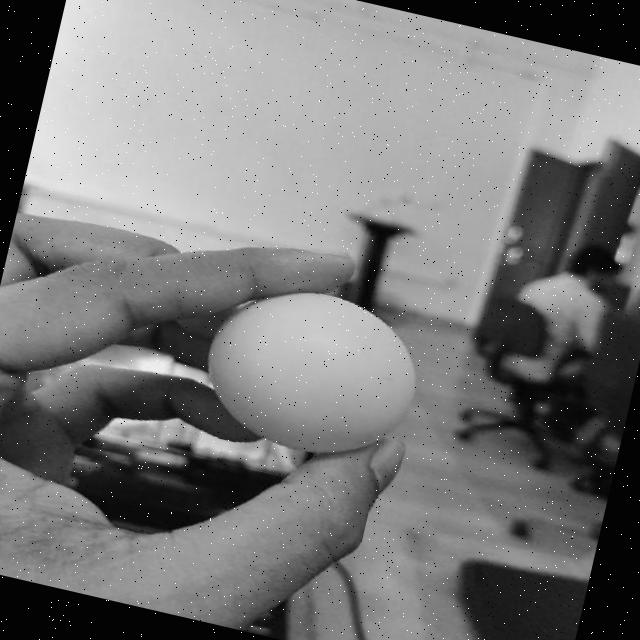ping-pong-ball: (192, 270, 429, 470)
